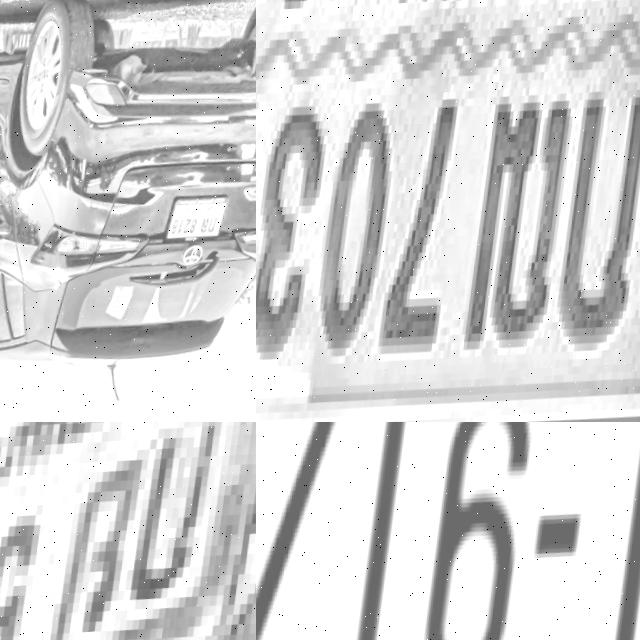license-plate: (256, 0, 640, 422), (256, 422, 640, 640), (0, 422, 256, 640), (162, 192, 239, 264)
